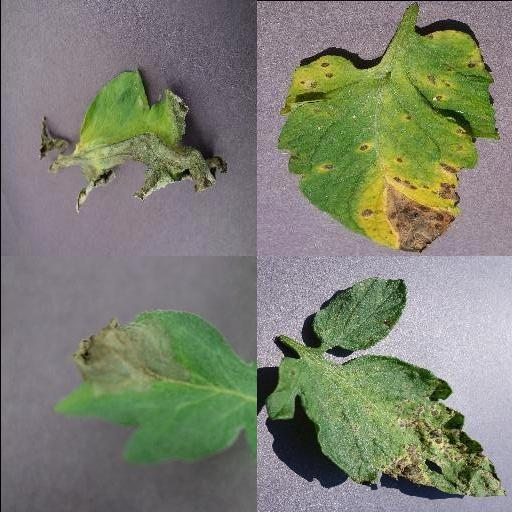Late Blight: (53, 312, 256, 468), (39, 67, 227, 209)
Septoria: (275, 27, 497, 251), (264, 352, 508, 498)
